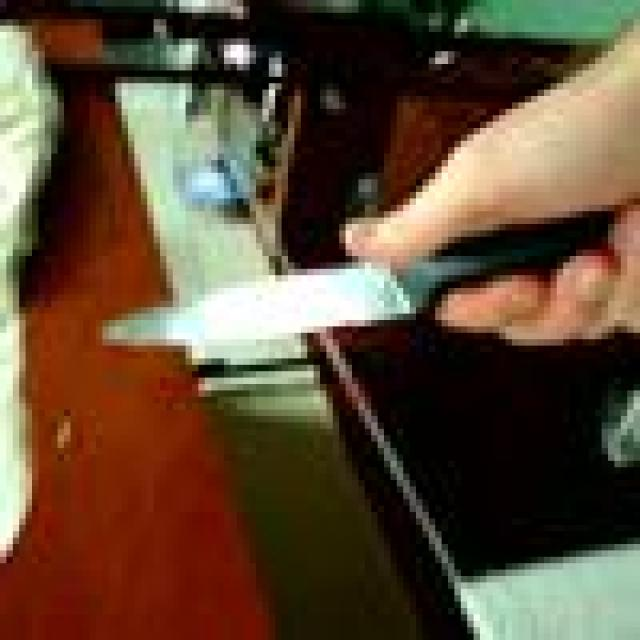knife: (104, 248, 445, 368)
